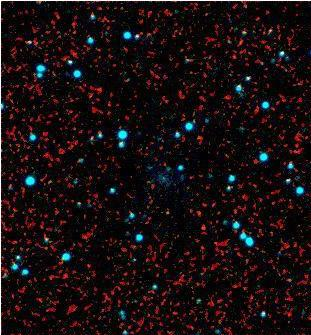star: (179, 107, 209, 137)
